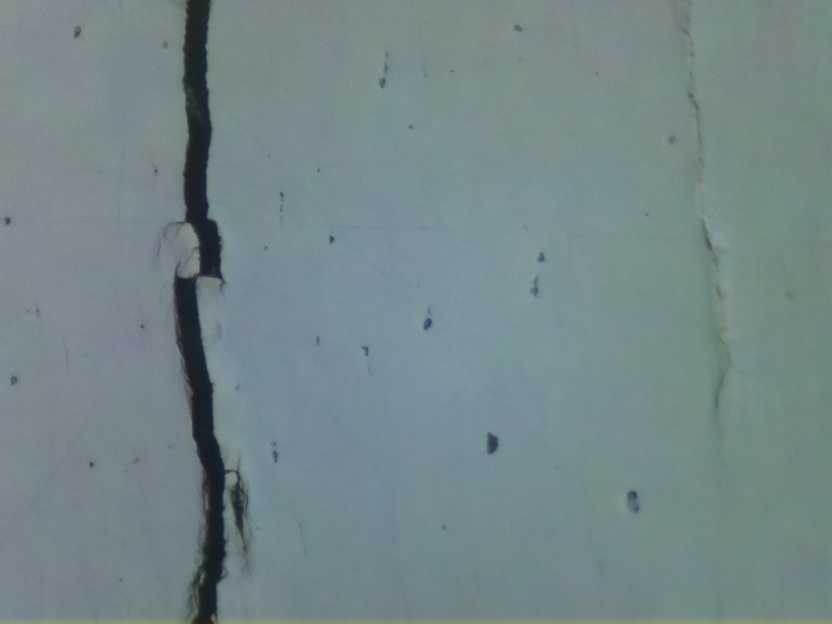crack: (171, 0, 228, 624)
